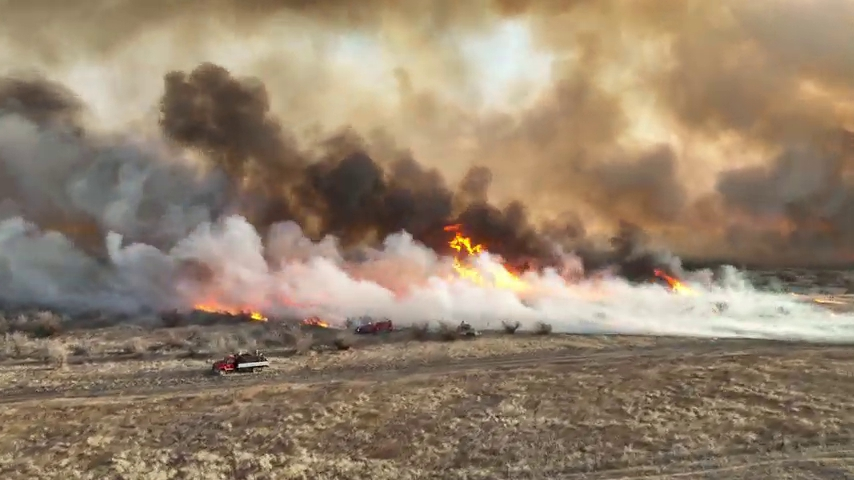forest_fire: (444, 224, 529, 291), (194, 303, 267, 320), (654, 268, 692, 292), (302, 317, 329, 327)
